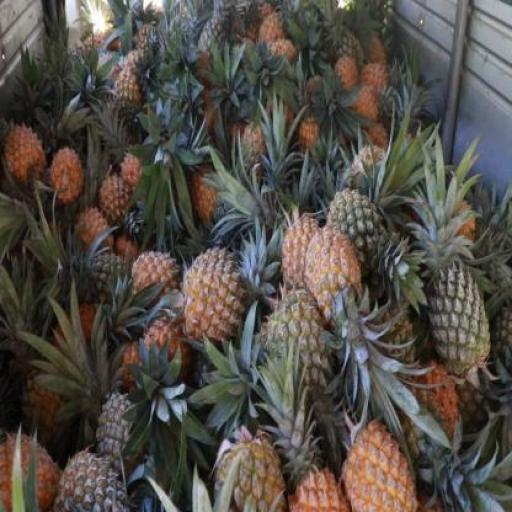------------------------------: (257, 292, 325, 391), (328, 188, 392, 287), (23, 375, 73, 450), (112, 72, 144, 130)
Pineapple - v8 v1: (342, 422, 421, 511), (306, 226, 367, 328), (184, 249, 246, 344), (0, 432, 60, 512), (280, 219, 329, 307), (143, 318, 188, 396), (130, 251, 174, 308), (3, 126, 43, 187), (101, 172, 139, 226), (49, 149, 80, 208)
